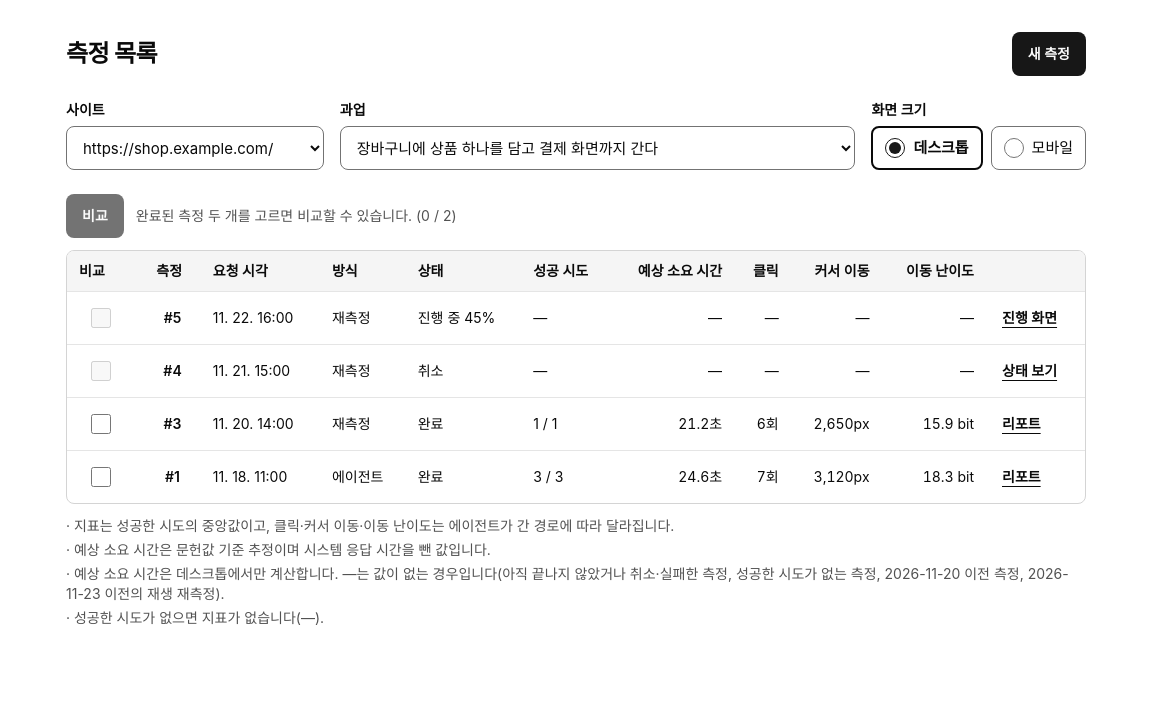
Scenario: 비교: 완료된 측정 두 줄을 고르면 먼저 만든 측정을 기준으로 비교 화면에 간다
Later steps or results of the test are not shown.
Expected: the column heading "#5" is shown, [144, 292, 201, 344]
Expected: the checkbox named "측정 #4" in the row of "11. 21. 15:00" is disabled, [91, 361, 111, 381]
What coordinates should you click on to do the following:
click the checkbox named "측정 #3" in the row of "11. 20. 14:00"
I would click on:
 (101, 424)
Its box is [91, 414, 111, 434].
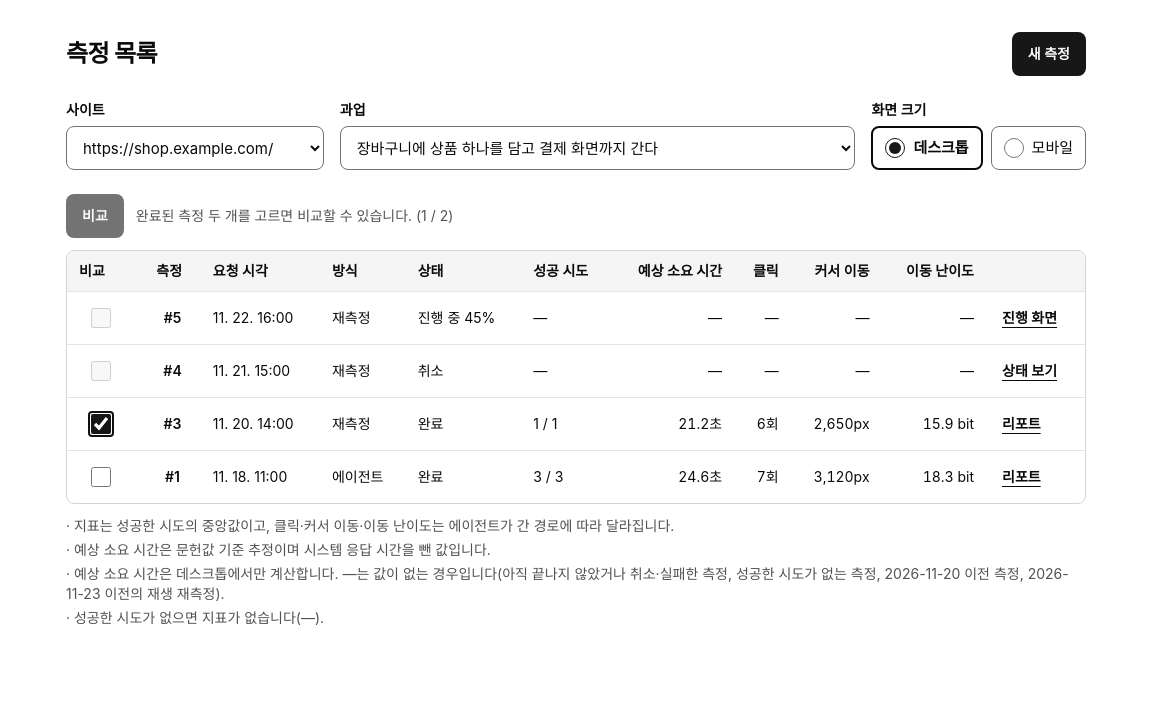
What coordinates should you click on to do the following:
click the checkbox named "측정 #1" in the row of "11. 18. 11:00"
I would click on:
 (101, 477)
Its box is [91, 467, 111, 487].
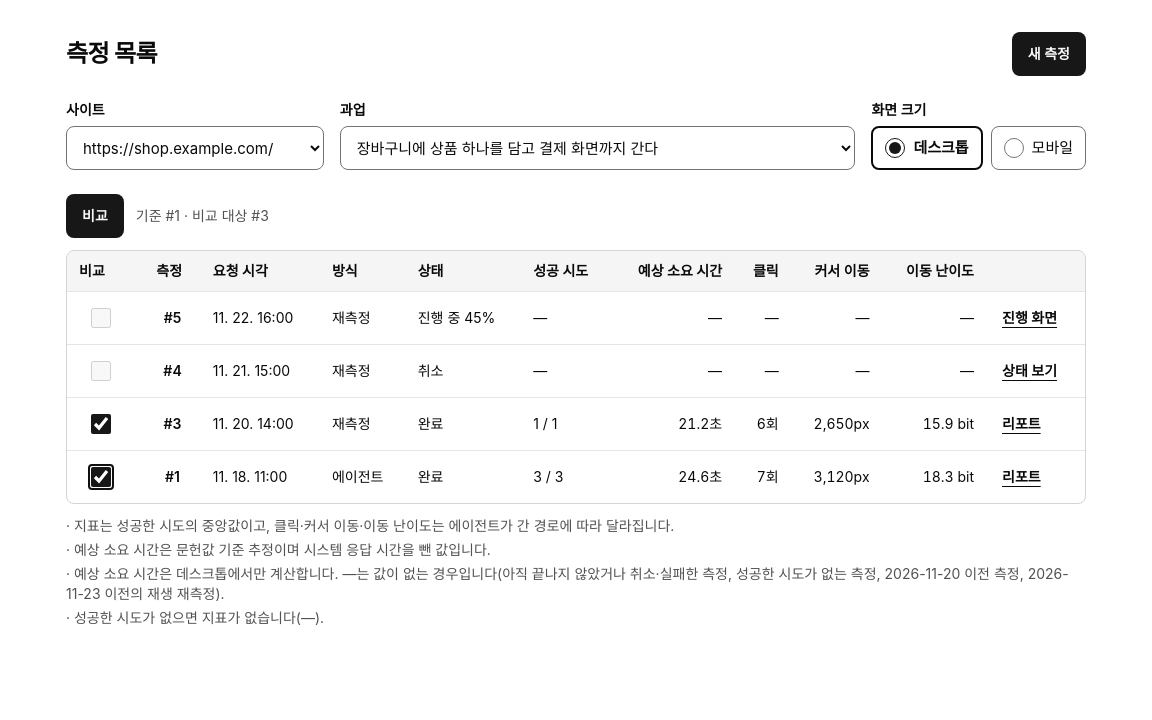
Expected: the text "기준 #1 · 비교 대상 #3" is shown, [136, 206, 269, 226]
